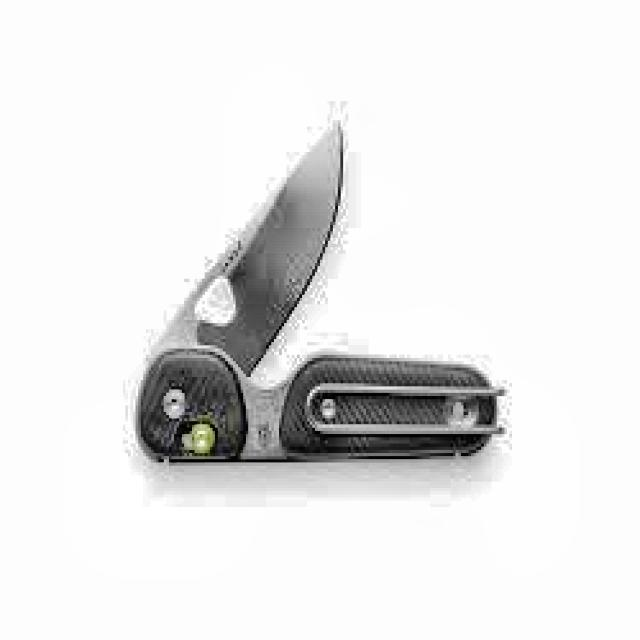knife: (134, 129, 505, 465)
